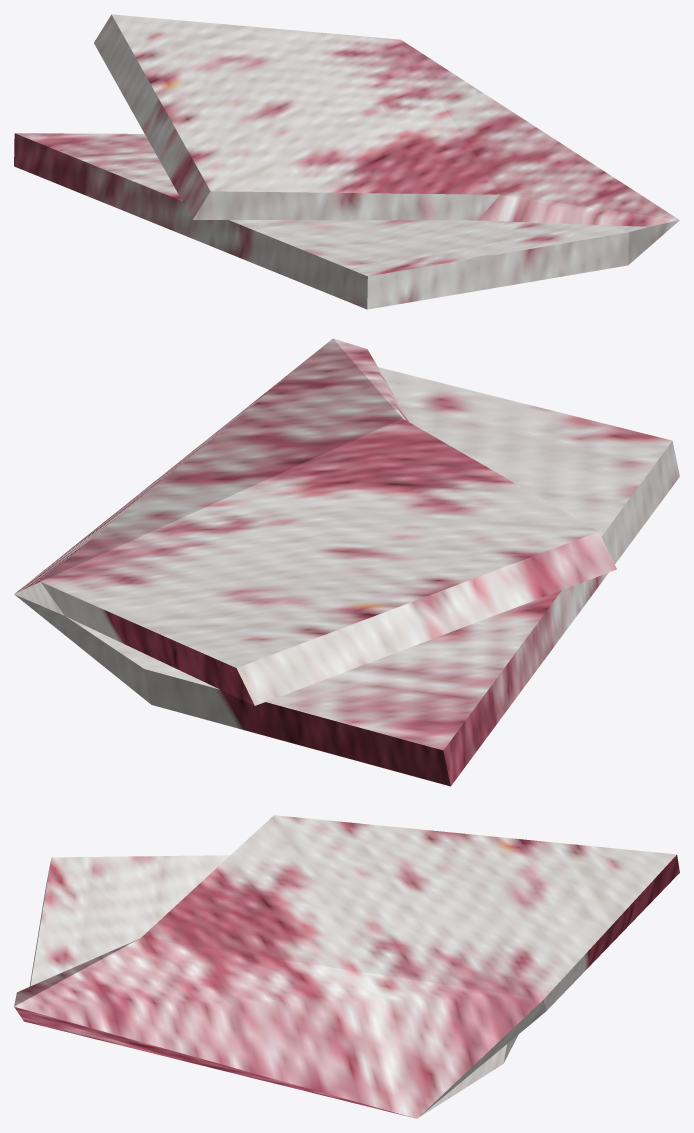
Rendered from BloodNapkin.fbx.
3 views of the same model, one above another, from view 1: azimuth 30°, elevation 25°; view 2: azimuth 150°, elevation 25°; view 3: azimuth 270°, elevation 25° (orthographic). The views are drawn at different scales.
Visible parts, largest first — view 1: Plane.261; view 2: Plane.261; view 3: Plane.261.
Part boxes in pixels (x1,y1,x2,y2): Plane.261: [14, 14, 679, 309]; Plane.261: [14, 338, 679, 786]; Plane.261: [14, 815, 679, 1118].
Size of the model in its own units: 38.72 by 10.8 by 49.16.
